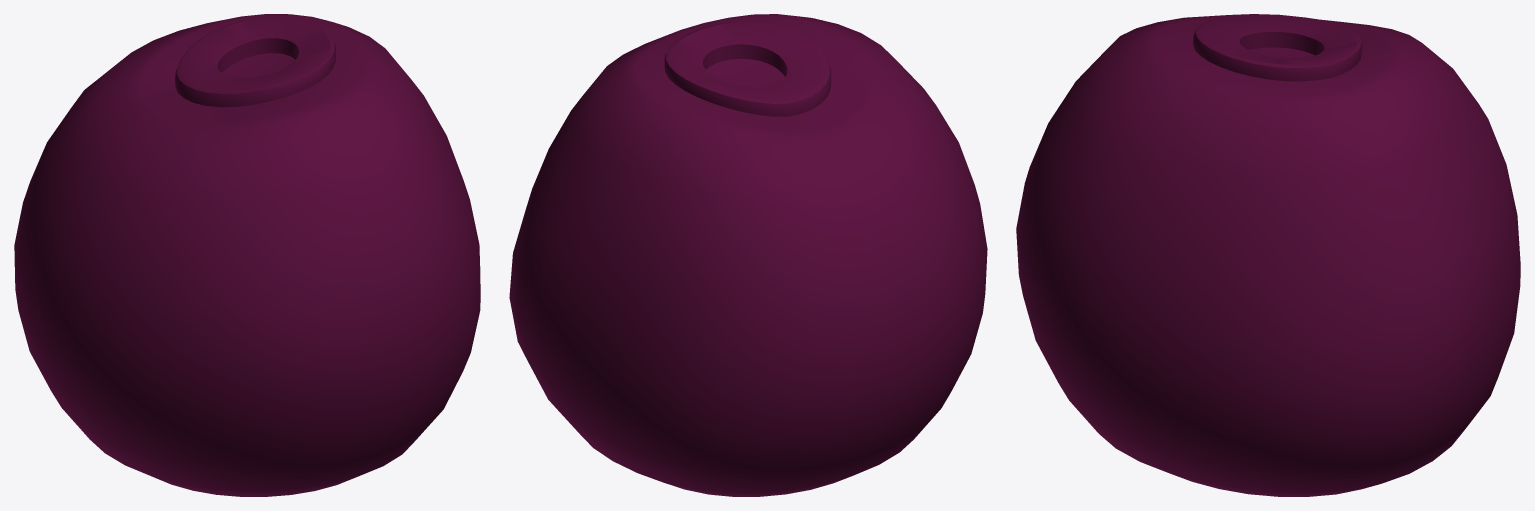
Rendered from BeterrabaColeta.fbx.
The picture shows the model from 3 angles, left to right: view 1: azimuth 30°, elevation 25°; view 2: azimuth 150°, elevation 25°; view 3: azimuth 270°, elevation 25°; orthographic projection. The views are drawn at different scales.
Visible parts, largest first — view 1: BeterrabaColeta; view 2: BeterrabaColeta; view 3: BeterrabaColeta.
Boxes of the visible parts, box(x1,y1,x2,y2) form: BeterrabaColeta: box(14, 14, 480, 496); BeterrabaColeta: box(509, 14, 987, 496); BeterrabaColeta: box(1016, 14, 1520, 496).
Size of the model in its own units: 6.24 by 5.77 by 6.31.
